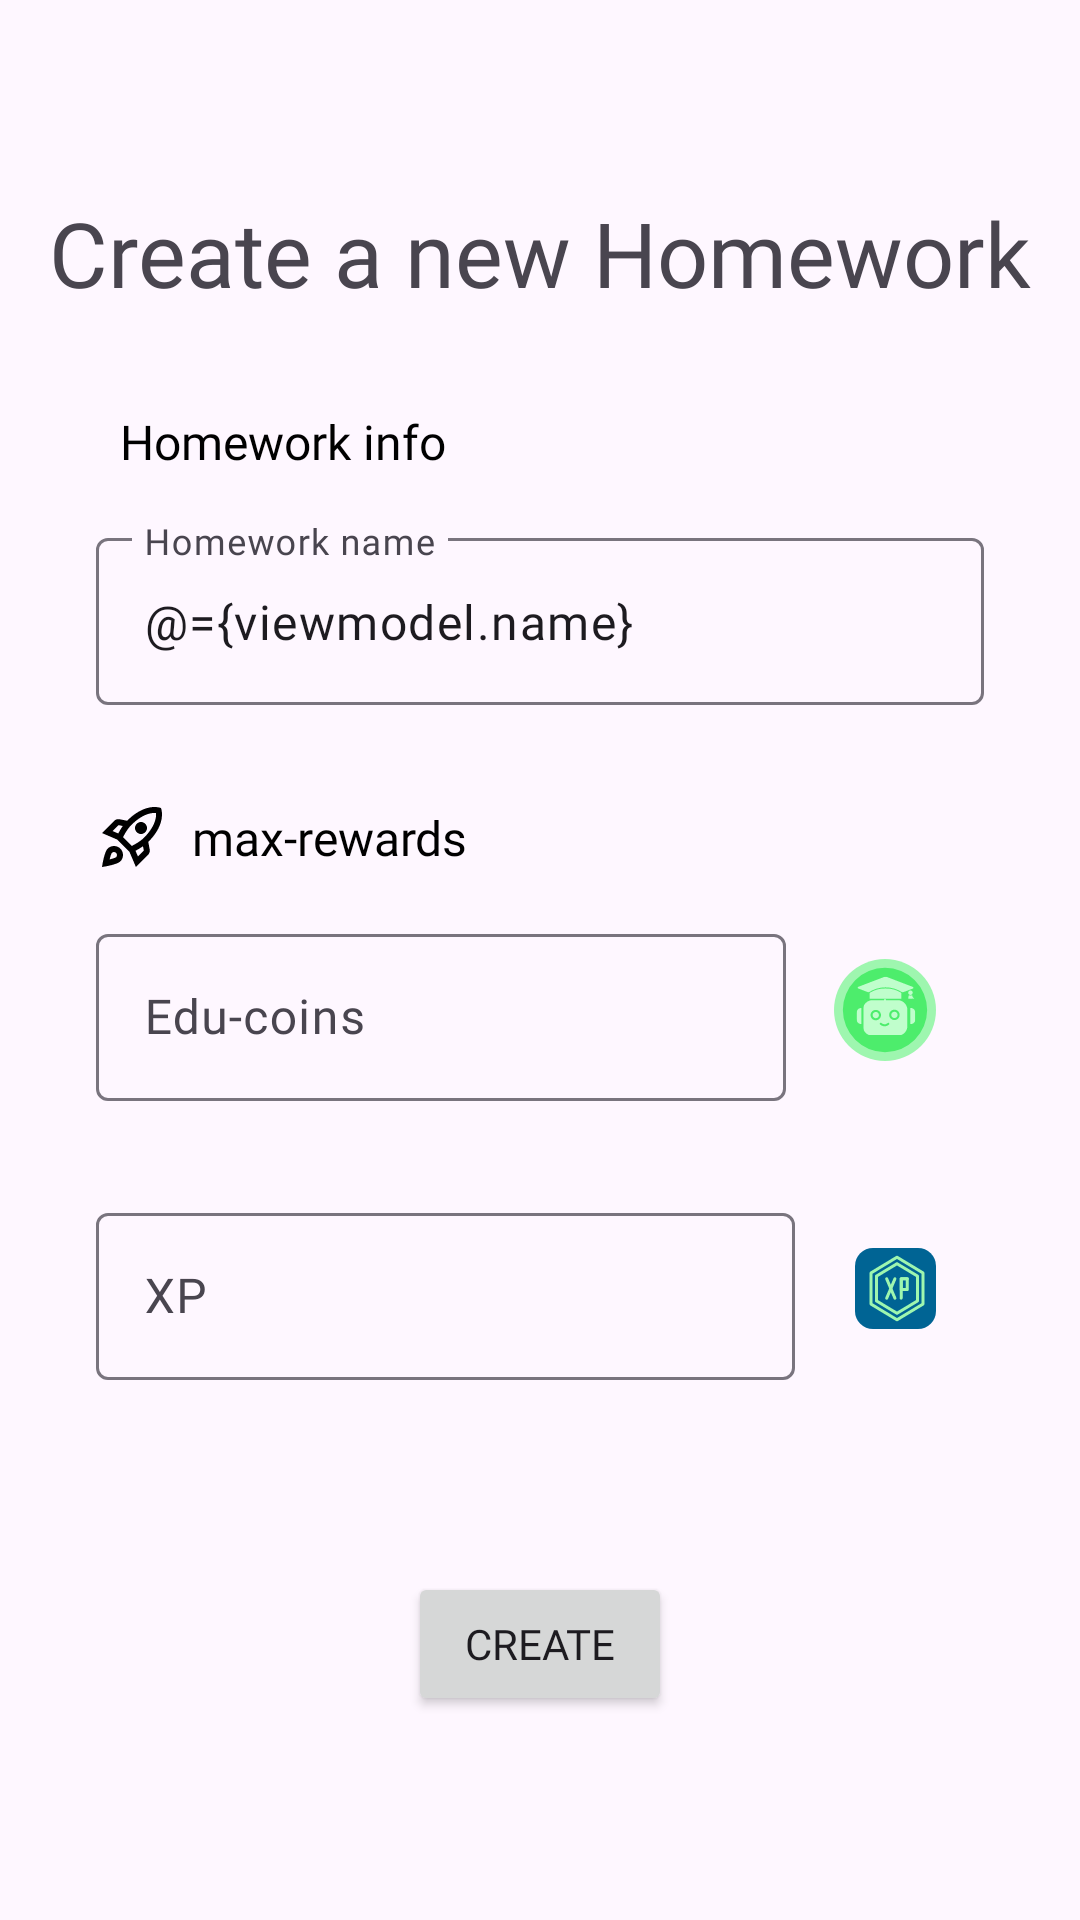

Named icons in this screenshot (1080*1920) and their bounding boxes, region(x1, y1, x2, y2):
rocket launch: region(102, 807, 162, 867)
